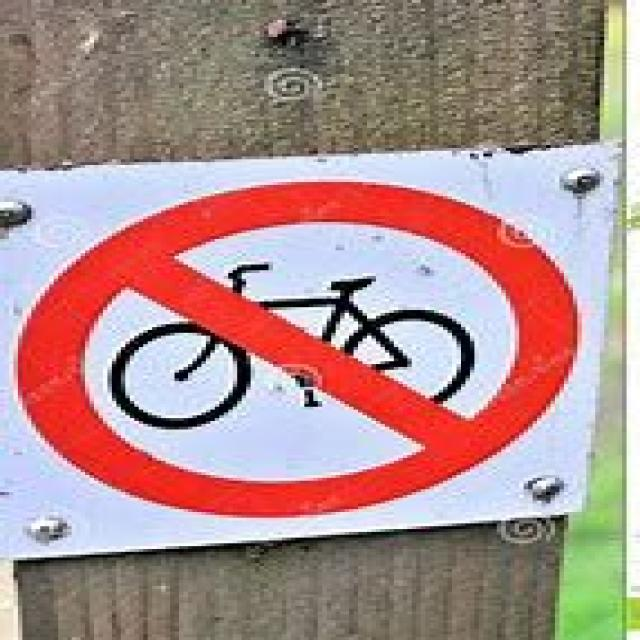cycle_prohibited: (9, 176, 577, 512)
